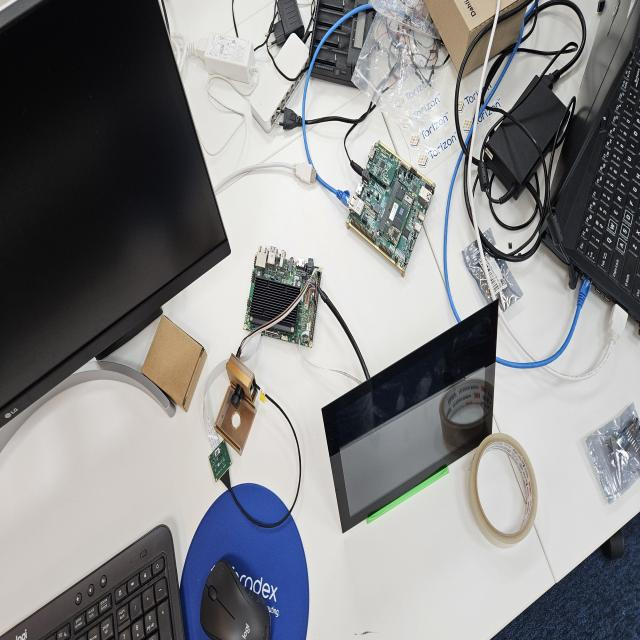som: (378, 180, 419, 246)
